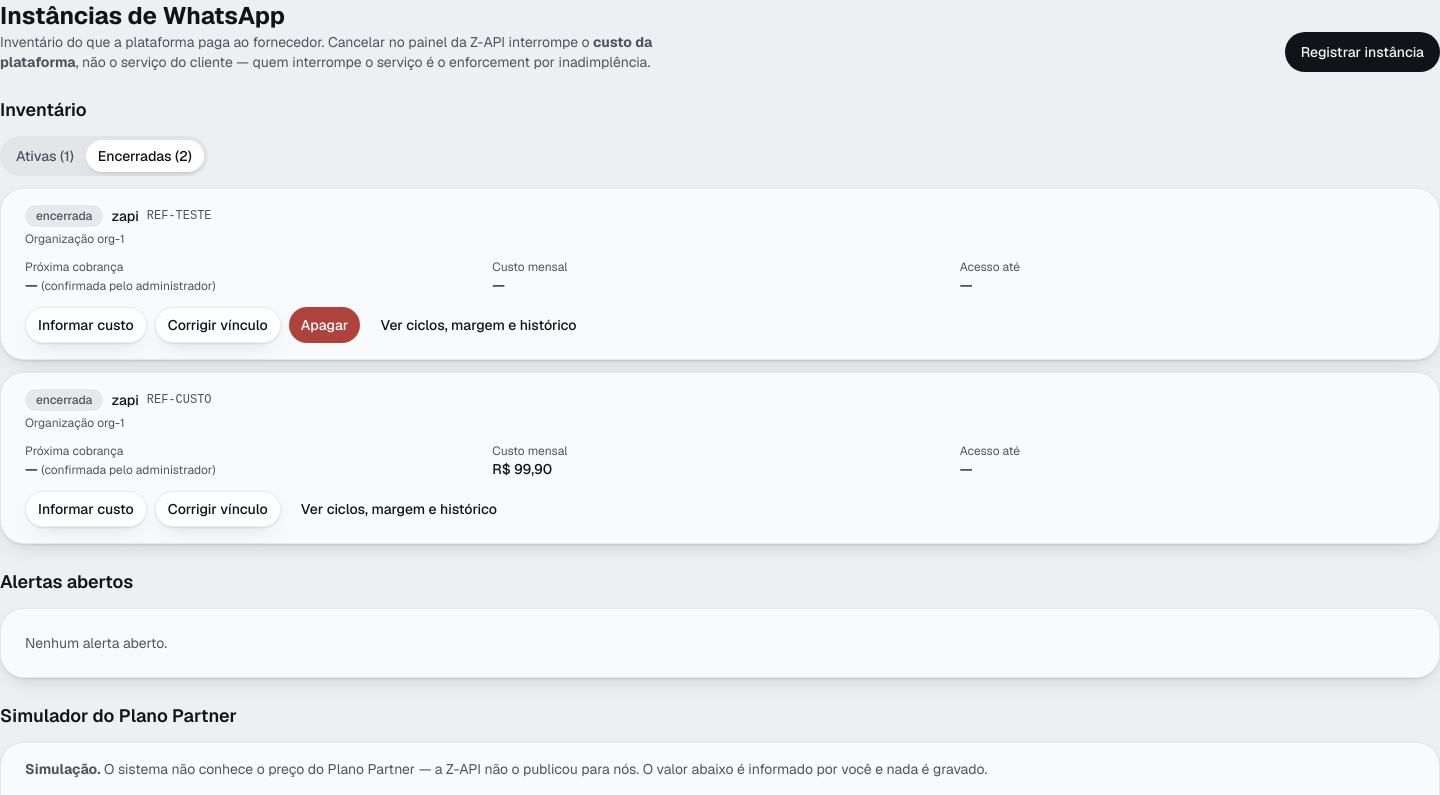
Test: Instâncias de WhatsApp — abas e exclusão › o diálogo de exclusão avisa sobre ciclo com custo pendente e confirma em destrutivo
The image size is (1440, 795).
Click the button "Apagar": (325, 325) [289,307,360,343]
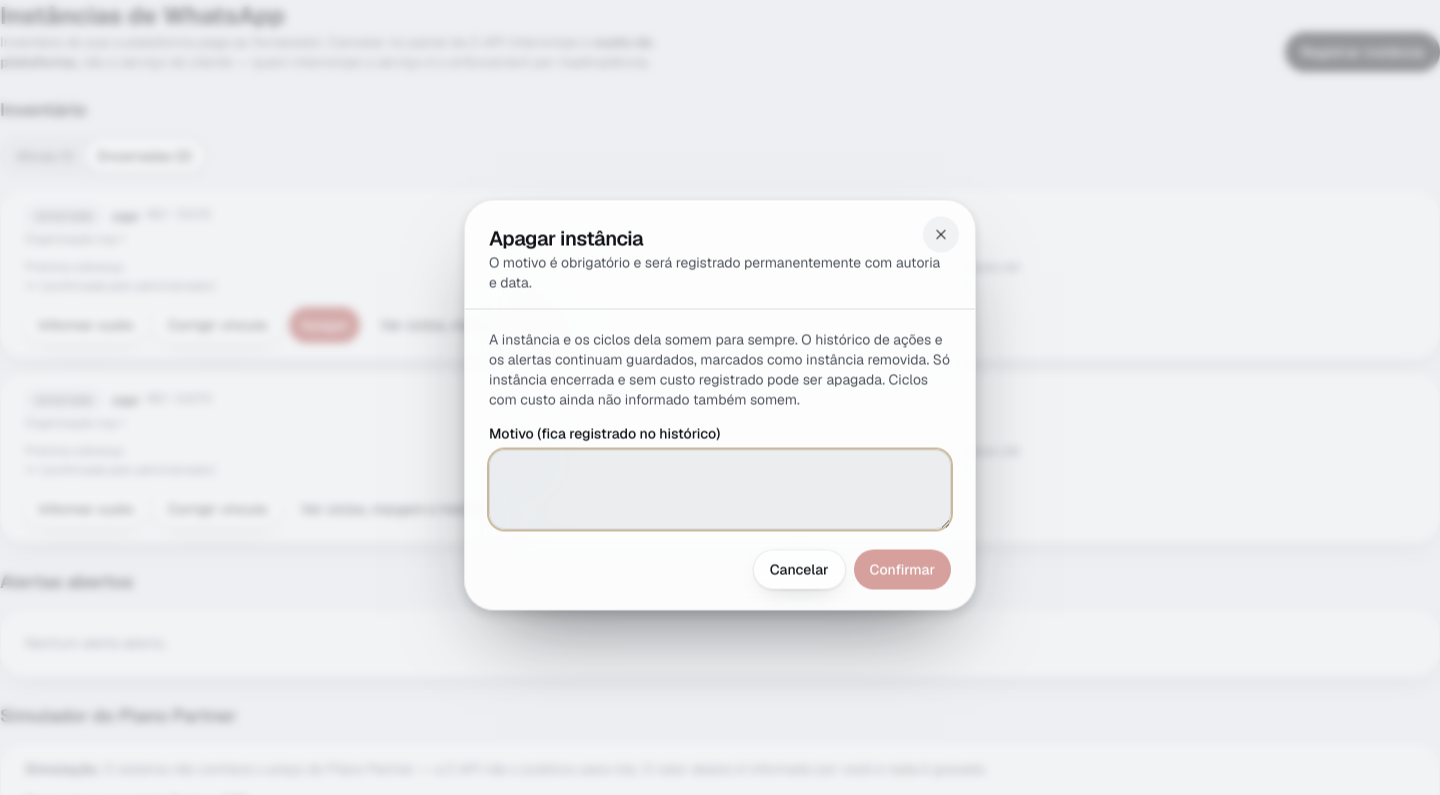
Result: the text "Ciclos com custo ainda não informado também somem" is shown at [489,330,950,408]
